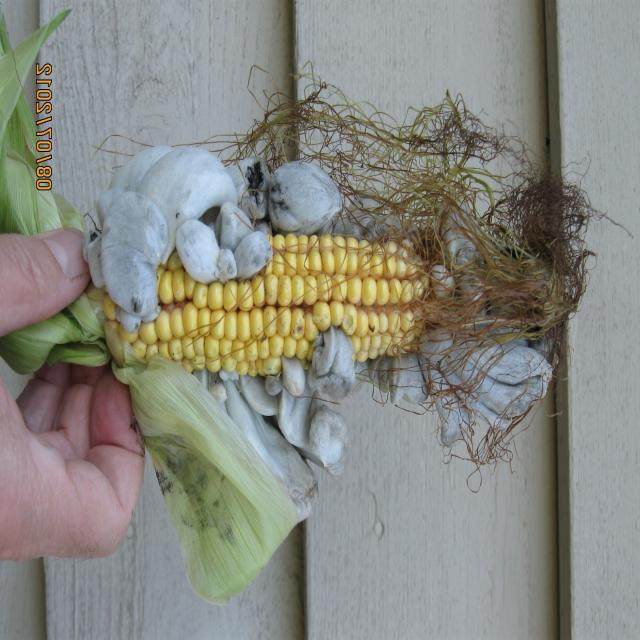Leaf_Scald: (69, 77, 595, 535)
